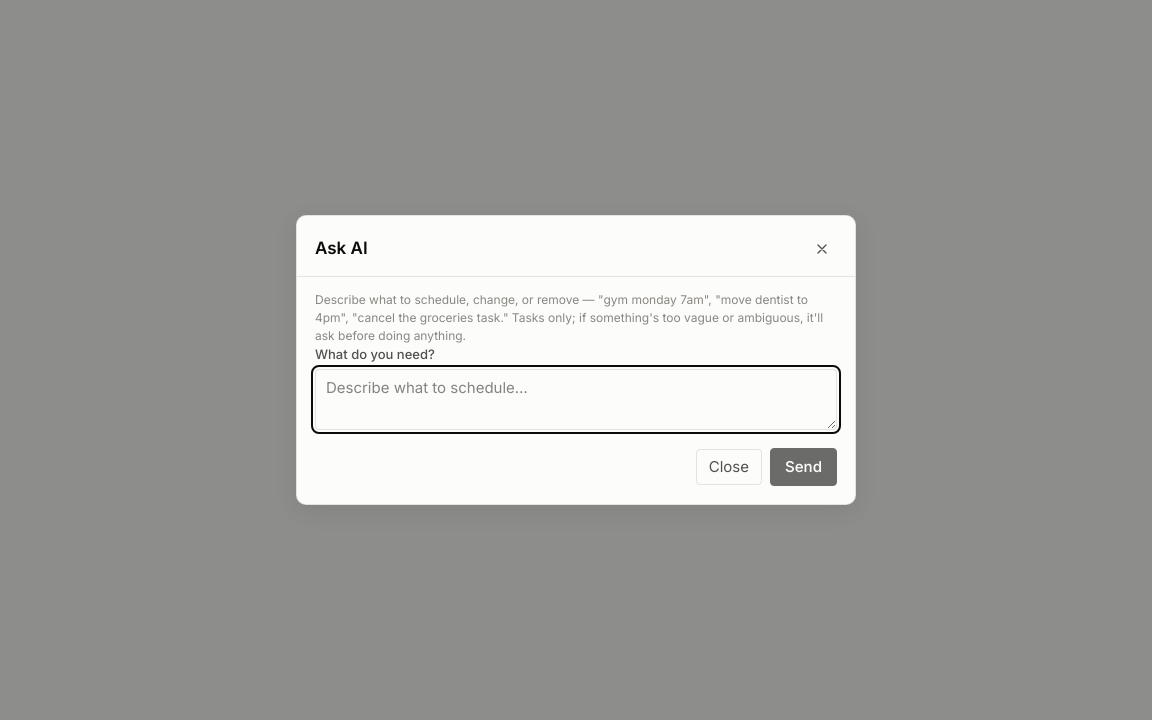
Test case: AiChatModal › when AI cannot be reached, says so in the transcript rather than failing silently or throwing
Step 1. Type "gym monday" into the text box with placeholder "Describe what to schedule…" → (576, 399), box [315,368,837,430]
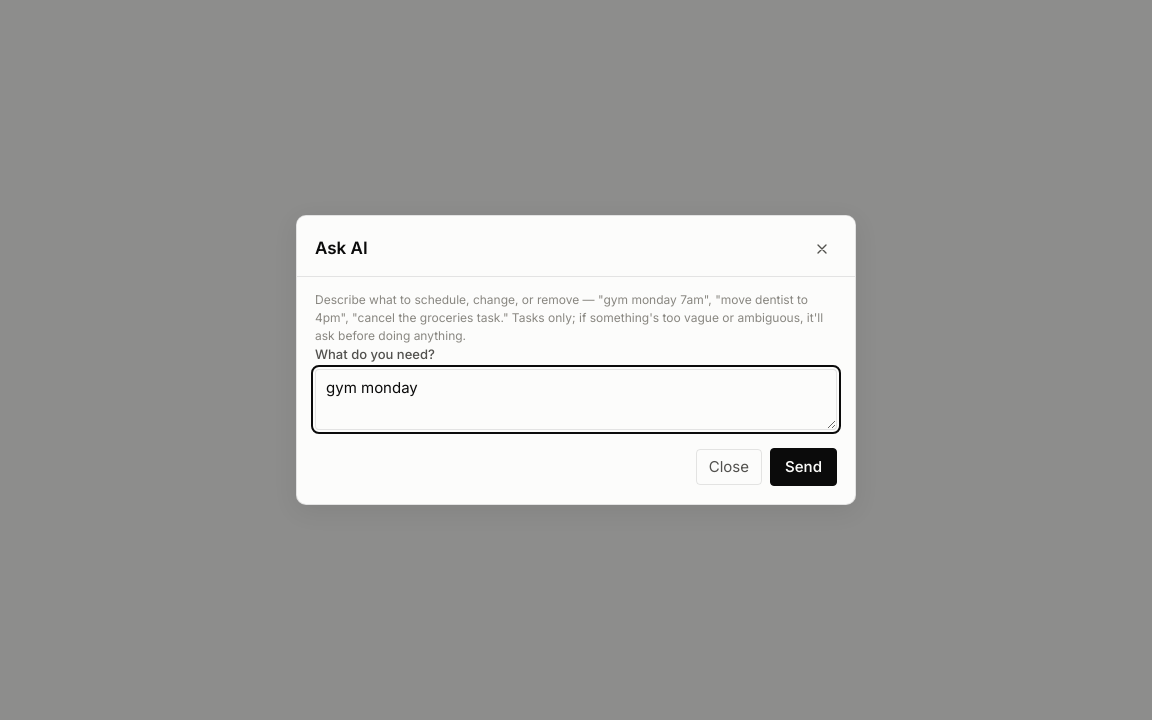
Step 2. Click the button "Send" → (804, 467), box [770,448,837,486]
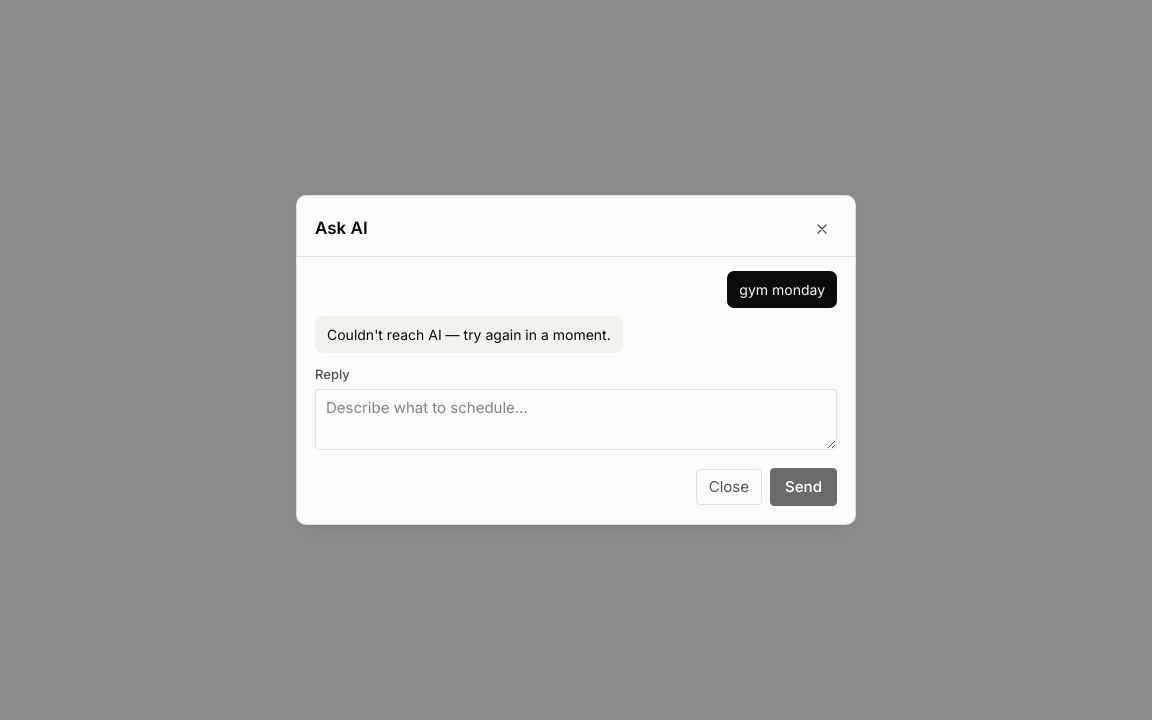
Expected: the text "Couldn't reach AI — try again in a moment." is shown, [315,316,623,353]
